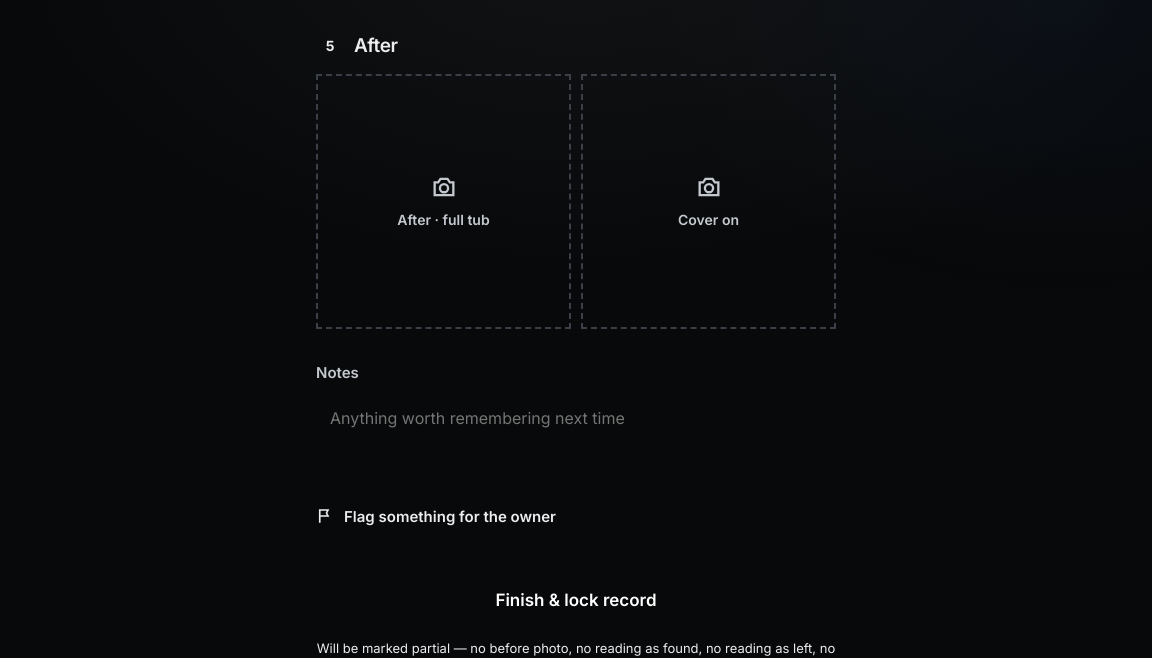
VisitScreen › flag saves and shows
(page scrolled)
Click the button "Flag something for the owner" at (450, 516), box [316, 492, 836, 540]
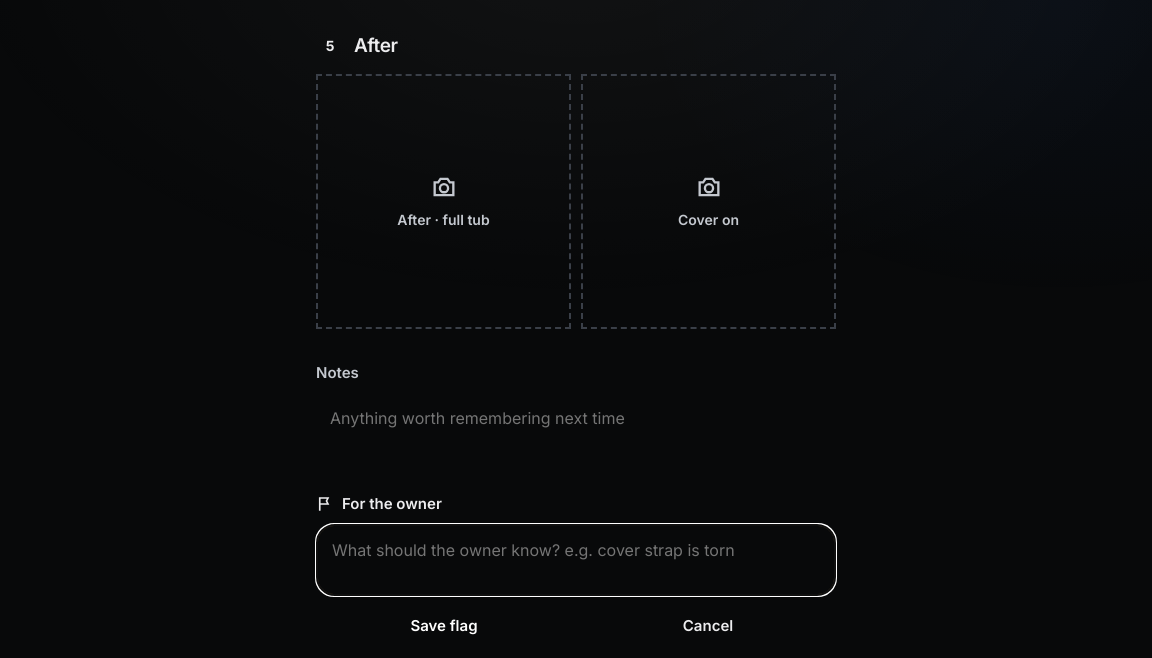
Type " Cover strap torn " into the text box labelled "For the owner" at (576, 560), box [316, 524, 836, 596]
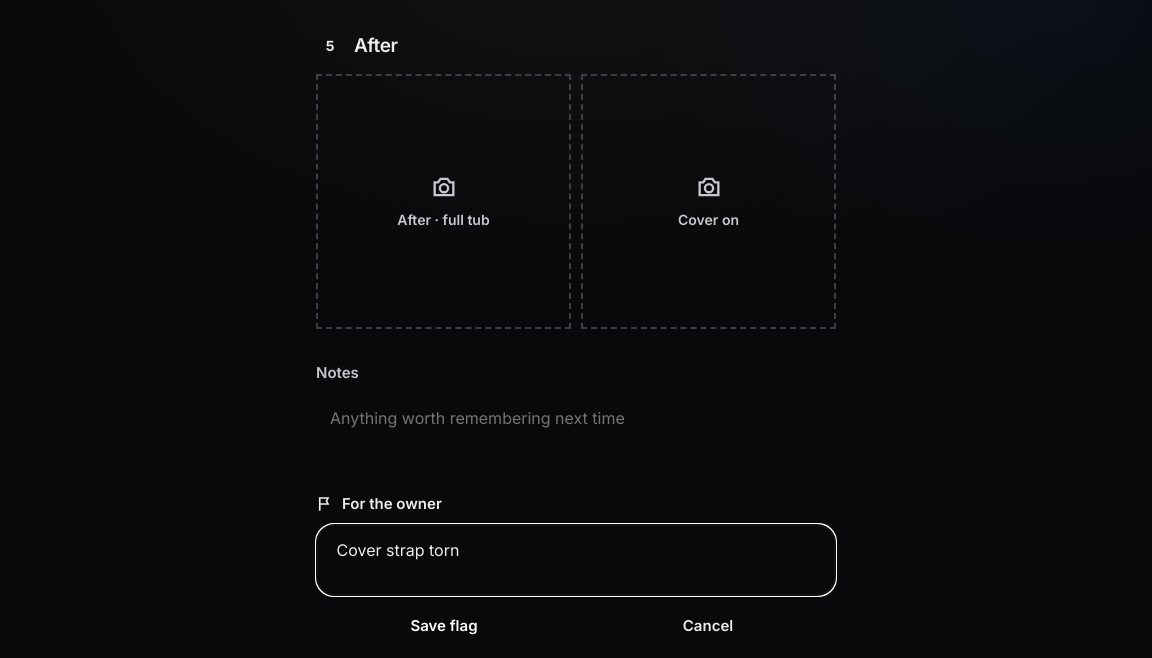
Click the button "Save flag" at (444, 626), box [316, 604, 572, 648]
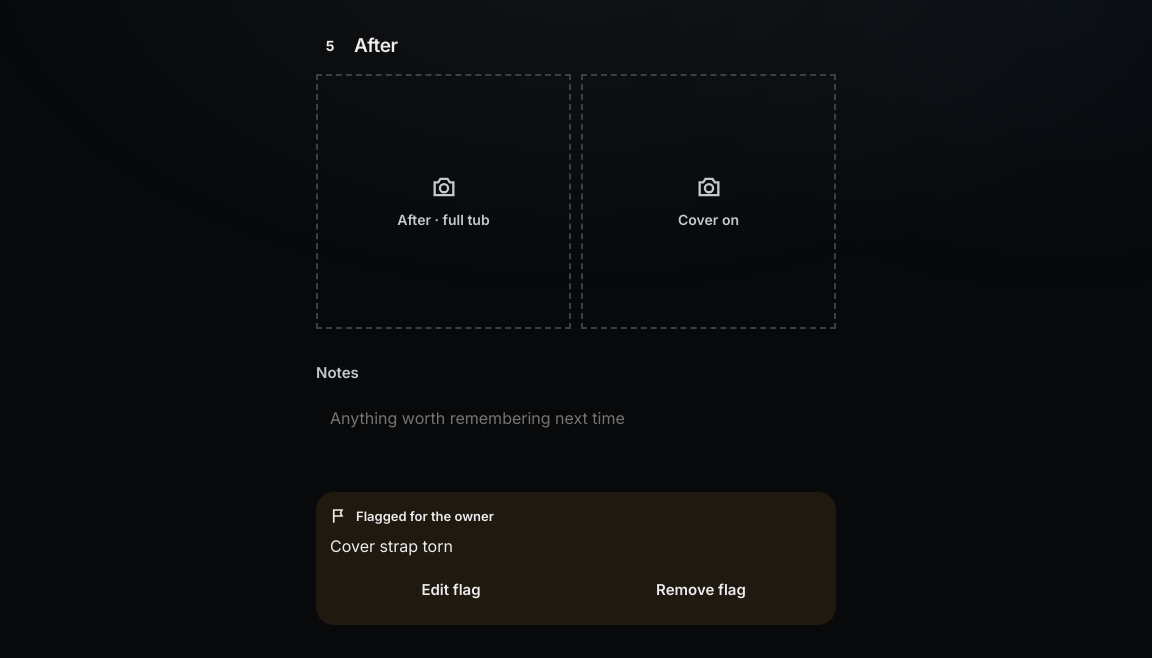
Result: the text "Cover strap torn" is shown at [330, 536, 453, 556]
Result: the button "Remove flag" is shown at [580, 567, 822, 611]
